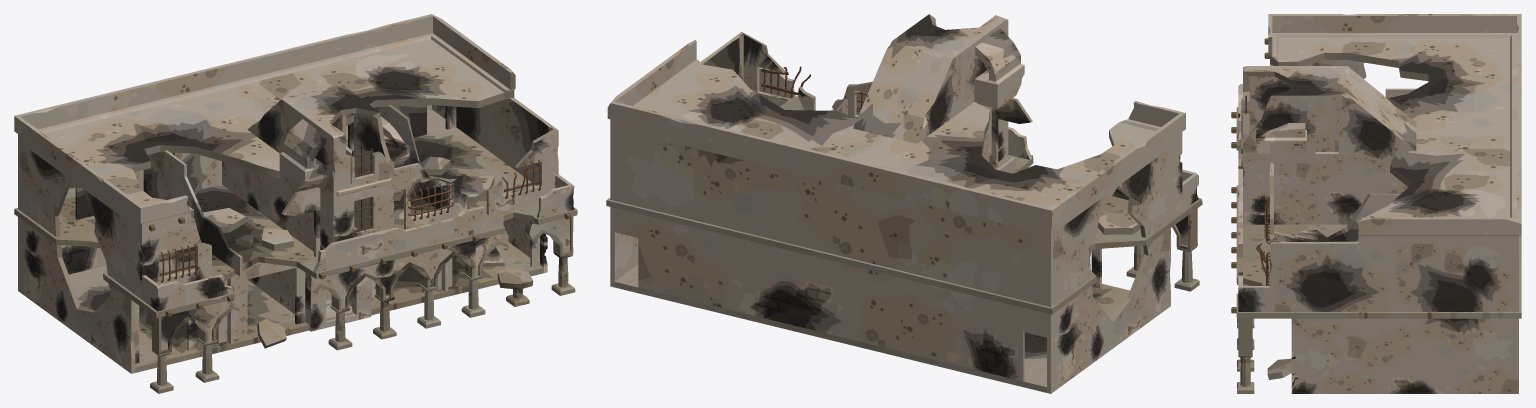
File: SM_Bld_Shop_06_Destroyed.glb
3 renders of one model, left to right at view 1: azimuth 30°, elevation 25°; view 2: azimuth 150°, elevation 25°; view 3: azimuth 270°, elevation 25°, orthographic. The views are drawn at different scales.
Visible parts, largest first — view 1: SM_Bld_Shop_06_Destroyed; view 2: SM_Bld_Shop_06_Destroyed; view 3: SM_Bld_Shop_06_Destroyed.
Part boxes in pixels (x1,y1,x2,y2): SM_Bld_Shop_06_Destroyed: [14, 14, 577, 393]; SM_Bld_Shop_06_Destroyed: [606, 14, 1202, 393]; SM_Bld_Shop_06_Destroyed: [1231, 14, 1521, 393].
Bounding box in the file's own units: 21.47 × 10.36 × 12.78.
Materials: 1 (1 with a texture image).
